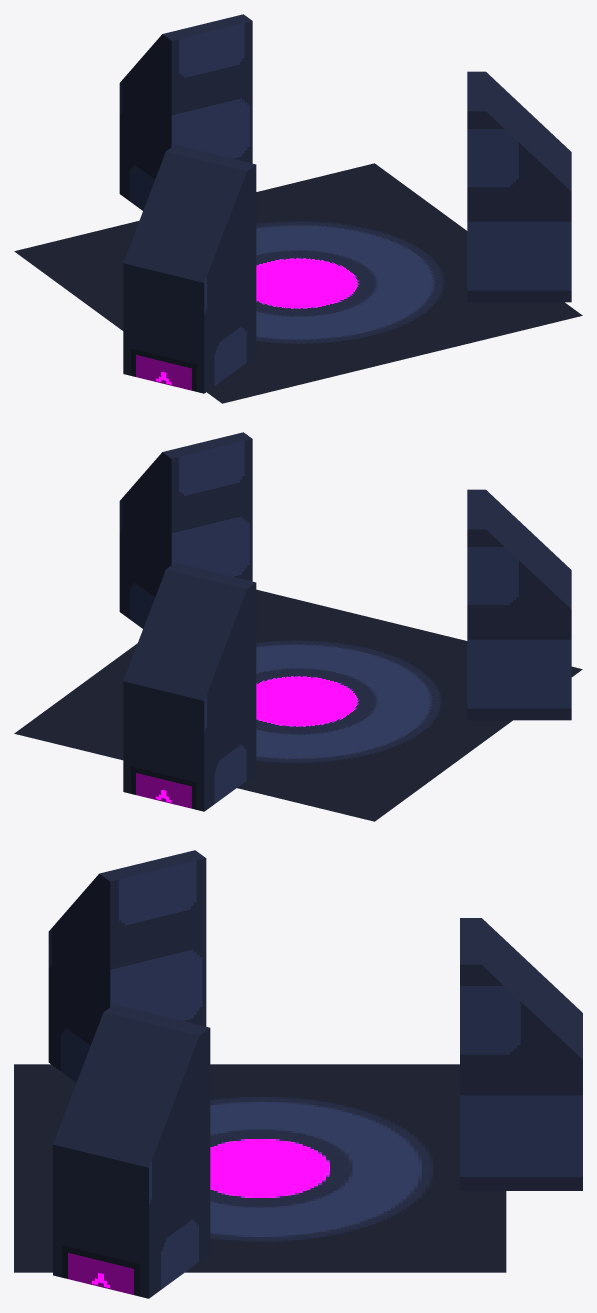
File: core-platform.glb
3 renders of one model, top to bottom at view 1: azimuth 30°, elevation 25°; view 2: azimuth 150°, elevation 25°; view 3: azimuth 270°, elevation 25°, orthographic. The views are drawn at different scales.
Parts seen in each view (by area): view 1: Floor_005_M_Floor_003_0, ControlPanel_001_M_ControlPanel_0, ControlPanel_002_M_ControlPanel_0, ControlPanel_M_ControlPanel_0; view 2: Floor_005_M_Floor_003_0, ControlPanel_M_ControlPanel_0, ControlPanel_001_M_ControlPanel_0, ControlPanel_002_M_ControlPanel_0; view 3: Floor_005_M_Floor_003_0, ControlPanel_002_M_ControlPanel_0, ControlPanel_M_ControlPanel_0, ControlPanel_001_M_ControlPanel_0.
Boxes of the visible parts, x1,y1,x2,y2 form: Floor_005_M_Floor_003_0: (14,163,582,403); ControlPanel_001_M_ControlPanel_0: (123,144,256,393); ControlPanel_002_M_ControlPanel_0: (467,71,571,302); ControlPanel_M_ControlPanel_0: (119,14,252,210); Floor_005_M_Floor_003_0: (14,589,582,821); ControlPanel_M_ControlPanel_0: (123,562,256,811); ControlPanel_001_M_ControlPanel_0: (467,489,571,720); ControlPanel_002_M_ControlPanel_0: (119,432,252,628); Floor_005_M_Floor_003_0: (14,1064,506,1272); ControlPanel_002_M_ControlPanel_0: (53,1004,210,1298); ControlPanel_M_ControlPanel_0: (460,918,582,1190); ControlPanel_001_M_ControlPanel_0: (48,850,206,1082).
Bounding box in the file's own units: 333 × 135 × 308.
Materials: 2 (2 with a texture image).
